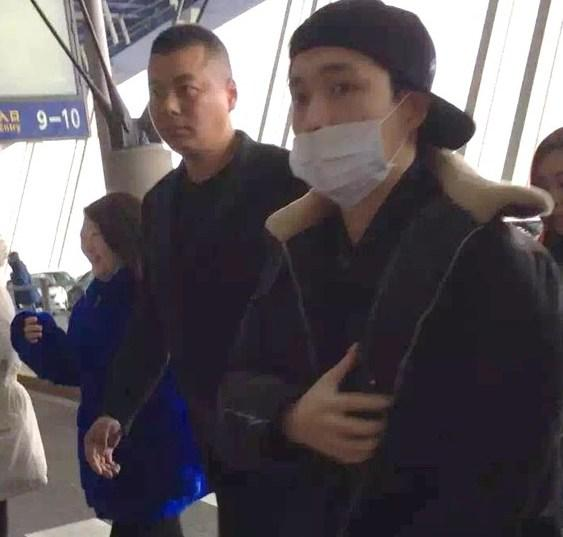NONE: (148, 72, 219, 150), (80, 221, 125, 276), (536, 166, 563, 237)
WRONG: (286, 57, 421, 192)
